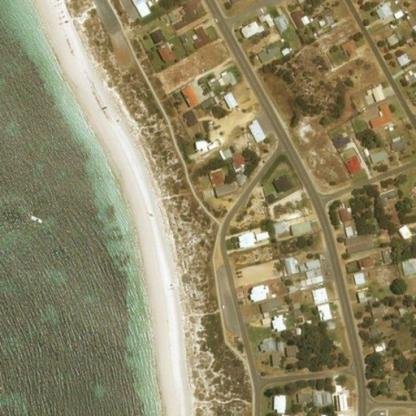ship: (25, 210, 48, 230)
